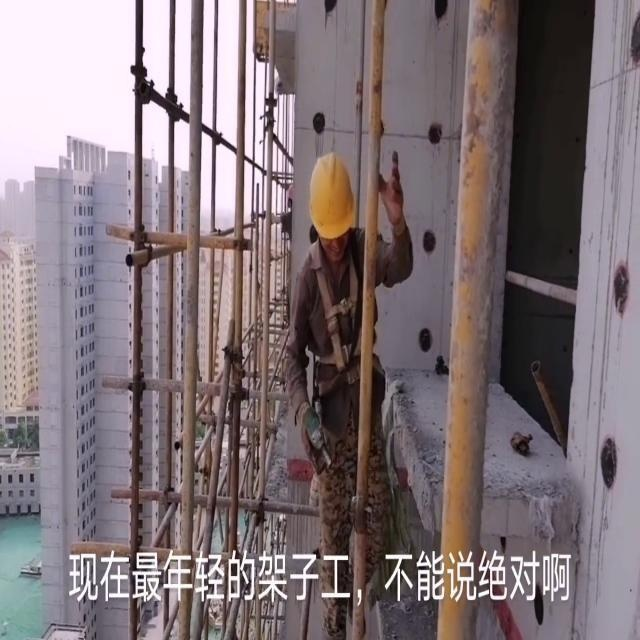Arnes_seguridad: (300, 232, 360, 376)
